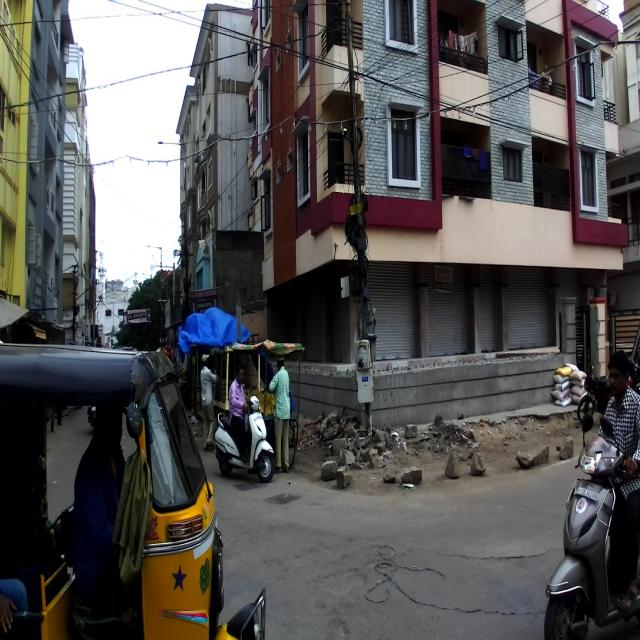autorickshaw: (0, 340, 267, 640)
motorcycle_Hero: (576, 365, 618, 428)
scooter: (544, 412, 640, 638), (212, 394, 276, 482)
